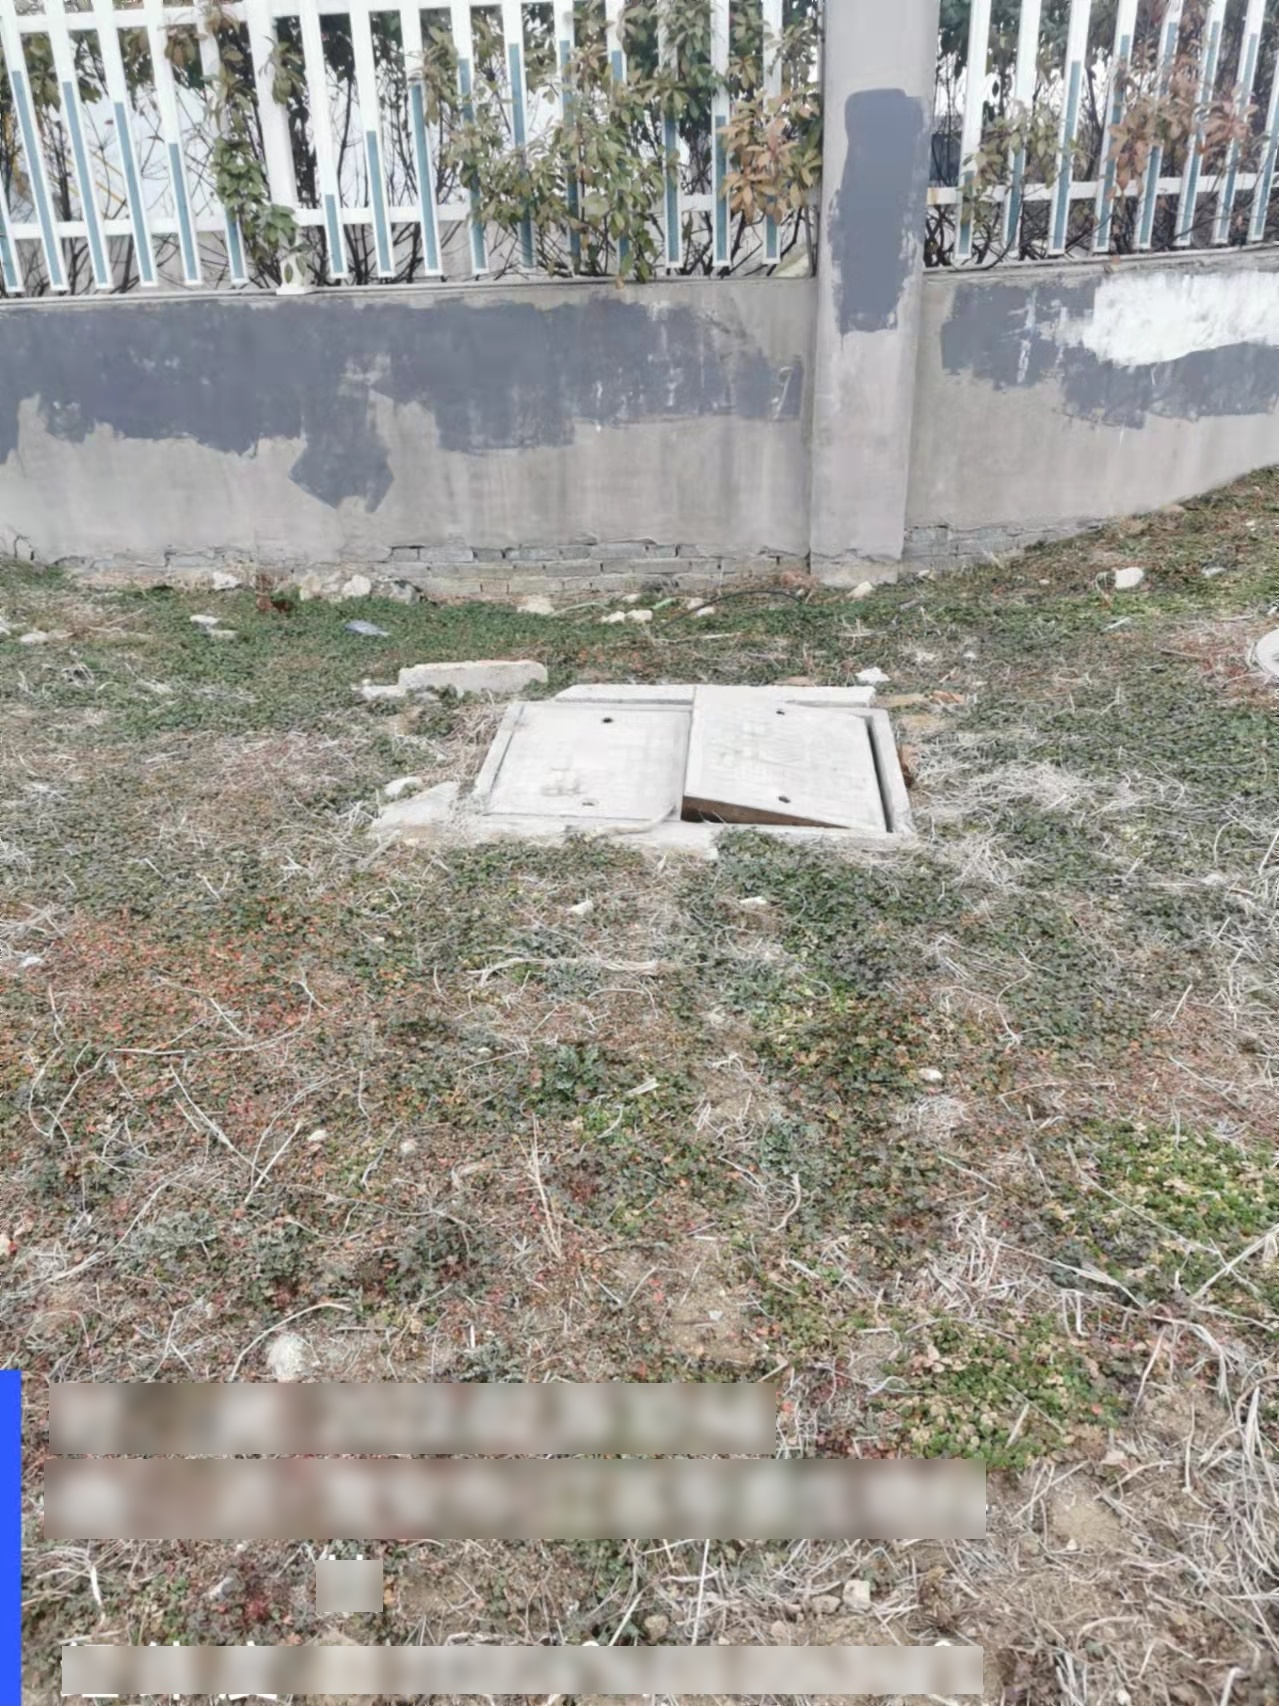uncovered: (449, 639, 916, 852)
